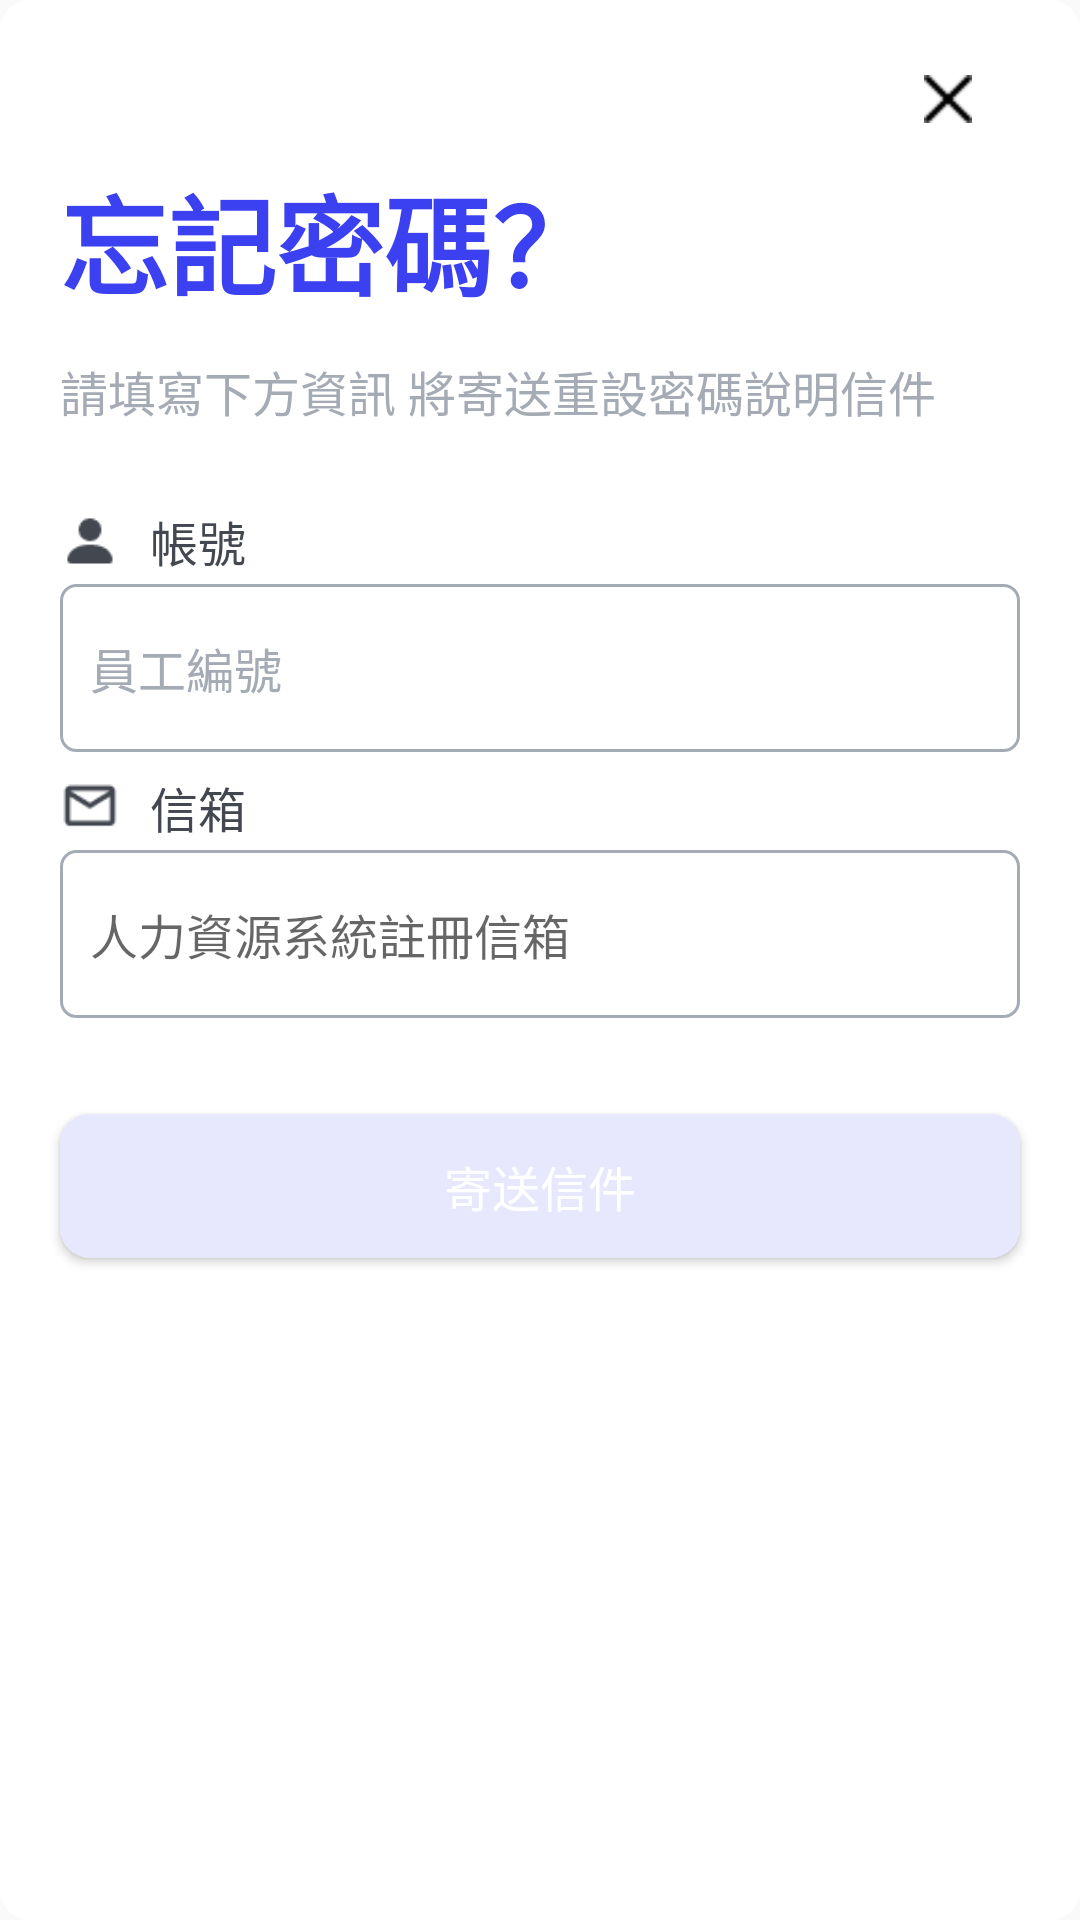

Locate icon controls on the screen. Image size 1080 x 1920, boxes as (x1, y1, x2, y2).
account: (67, 518, 113, 564)
del: (924, 75, 972, 123)
email: (63, 784, 117, 826)
